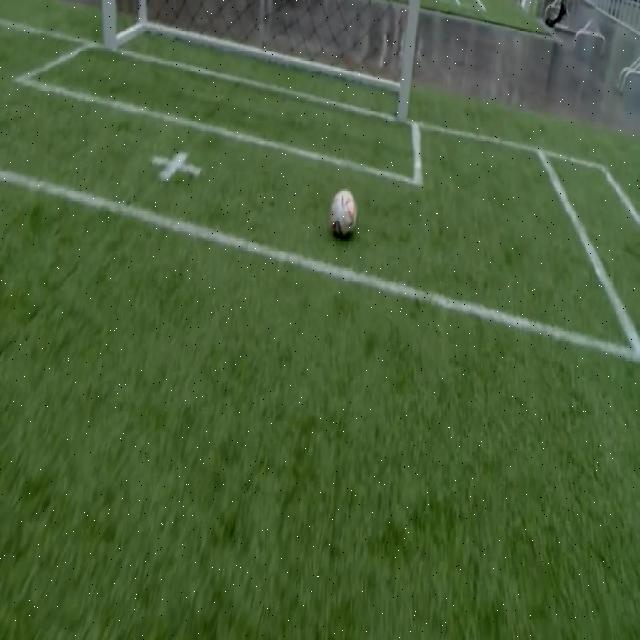ball: (331, 189, 356, 237)
goalpost: (391, 51, 416, 125), (100, 0, 122, 63)
